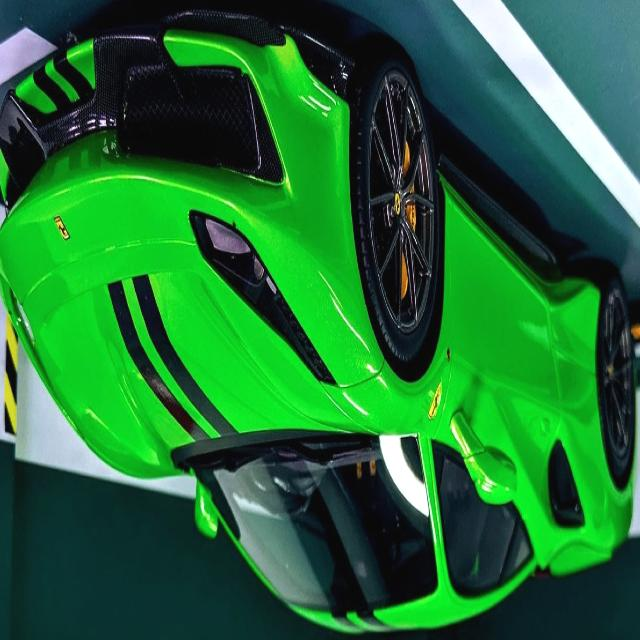green: (0, 13, 631, 635)
